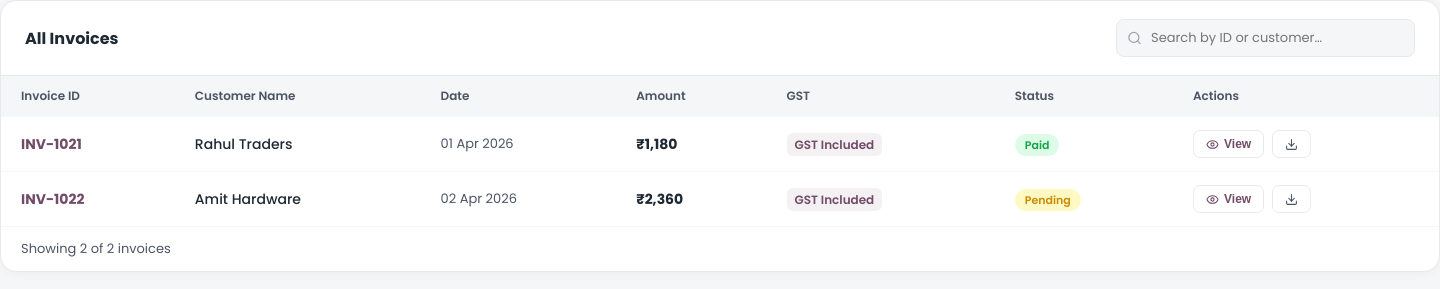
InvoiceTable › filters invoices by customer
The width and height of the screenshot is (1440, 289).
Type "Amit" into the field with placeholder "Search by ID or customer…".
click(1266, 38); type("Amit")  # box [1116,19,1415,57]
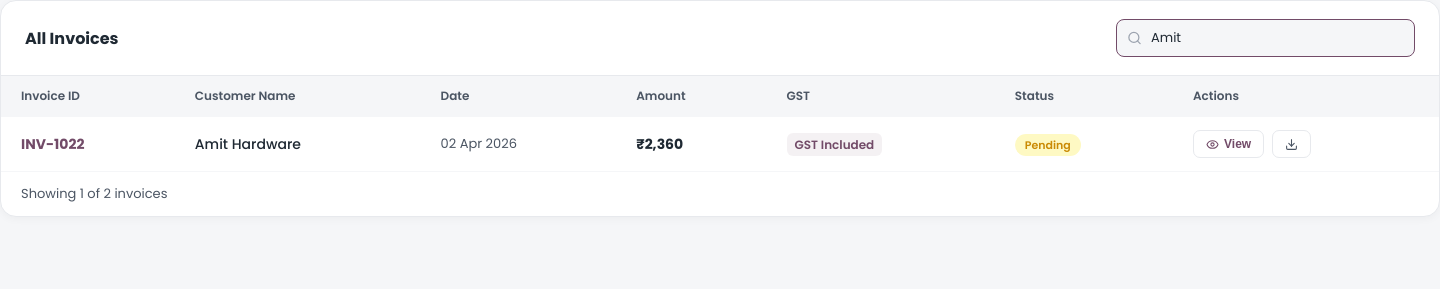
Check: the text "Amit Hardware" is shown, box [175,116,421,171]
Check: the text "Rahul Traders" is gone
